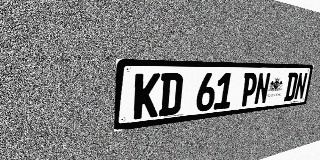1: (213, 73, 234, 110)
6: (195, 73, 217, 112)
D: (158, 73, 183, 117), (283, 72, 299, 101)
K: (133, 73, 161, 120)
N: (253, 73, 271, 105), (293, 72, 308, 100)
P: (240, 73, 258, 107)
